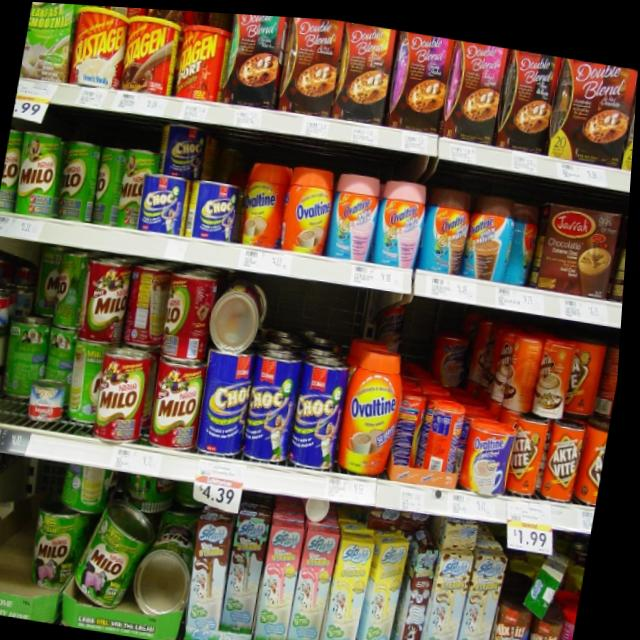q40: (74, 490, 153, 612), (22, 500, 95, 602), (9, 121, 68, 227), (59, 122, 108, 233)
